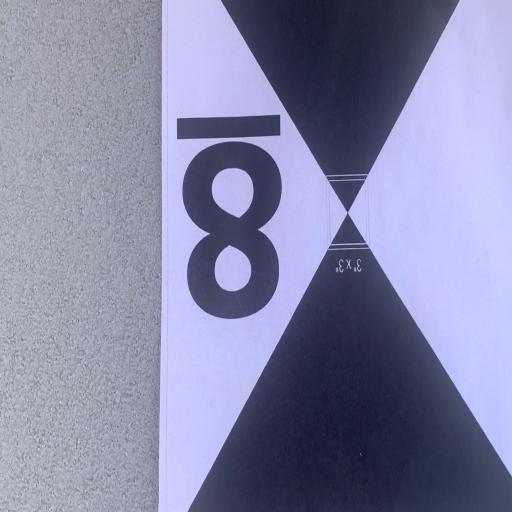target8: (158, 1, 512, 510)
